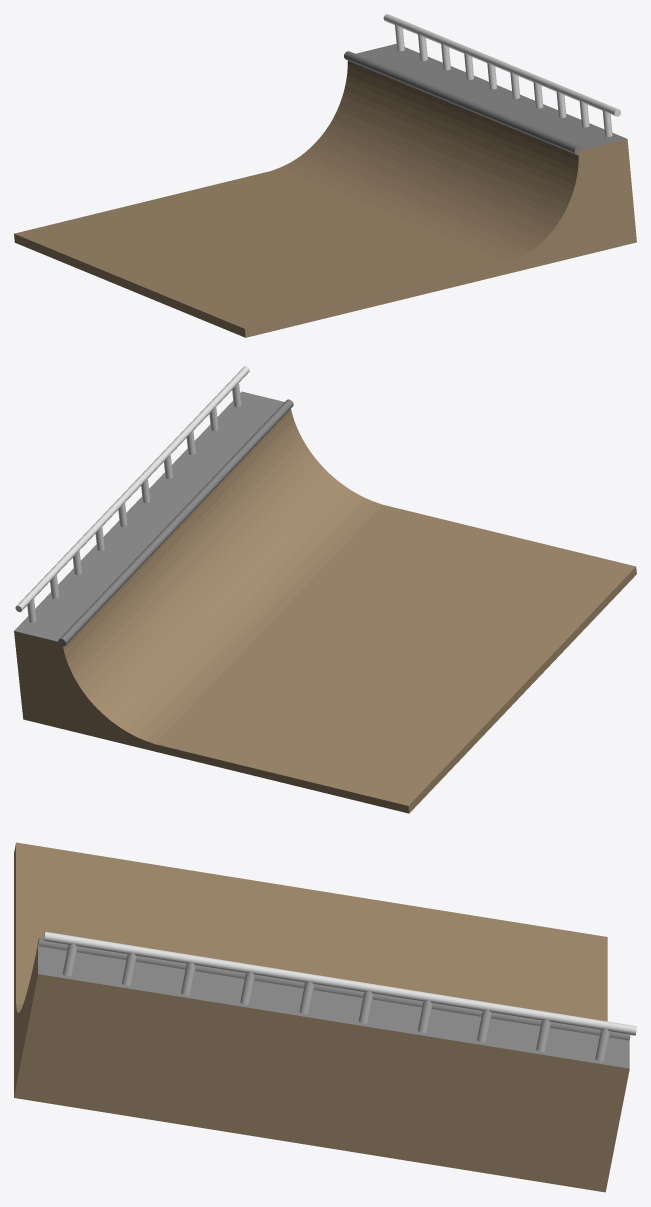
The model's file is Rampa v3.fbx.
3 renders of one model, top to bottom at view 1: azimuth 30°, elevation 25°; view 2: azimuth 150°, elevation 25°; view 3: azimuth 270°, elevation 25°, orthographic. The views are drawn at different scales.
Visible parts, largest first — view 1: Rampa normal; view 2: Rampa normal; view 3: Rampa normal.
Boxes of the visible parts, x1,y1,x2,y2 form: Rampa normal: (14,14,636,337); Rampa normal: (14,366,636,813); Rampa normal: (14,842,636,1192).
Size of the model in its own units: 1828 by 891 by 1967.
